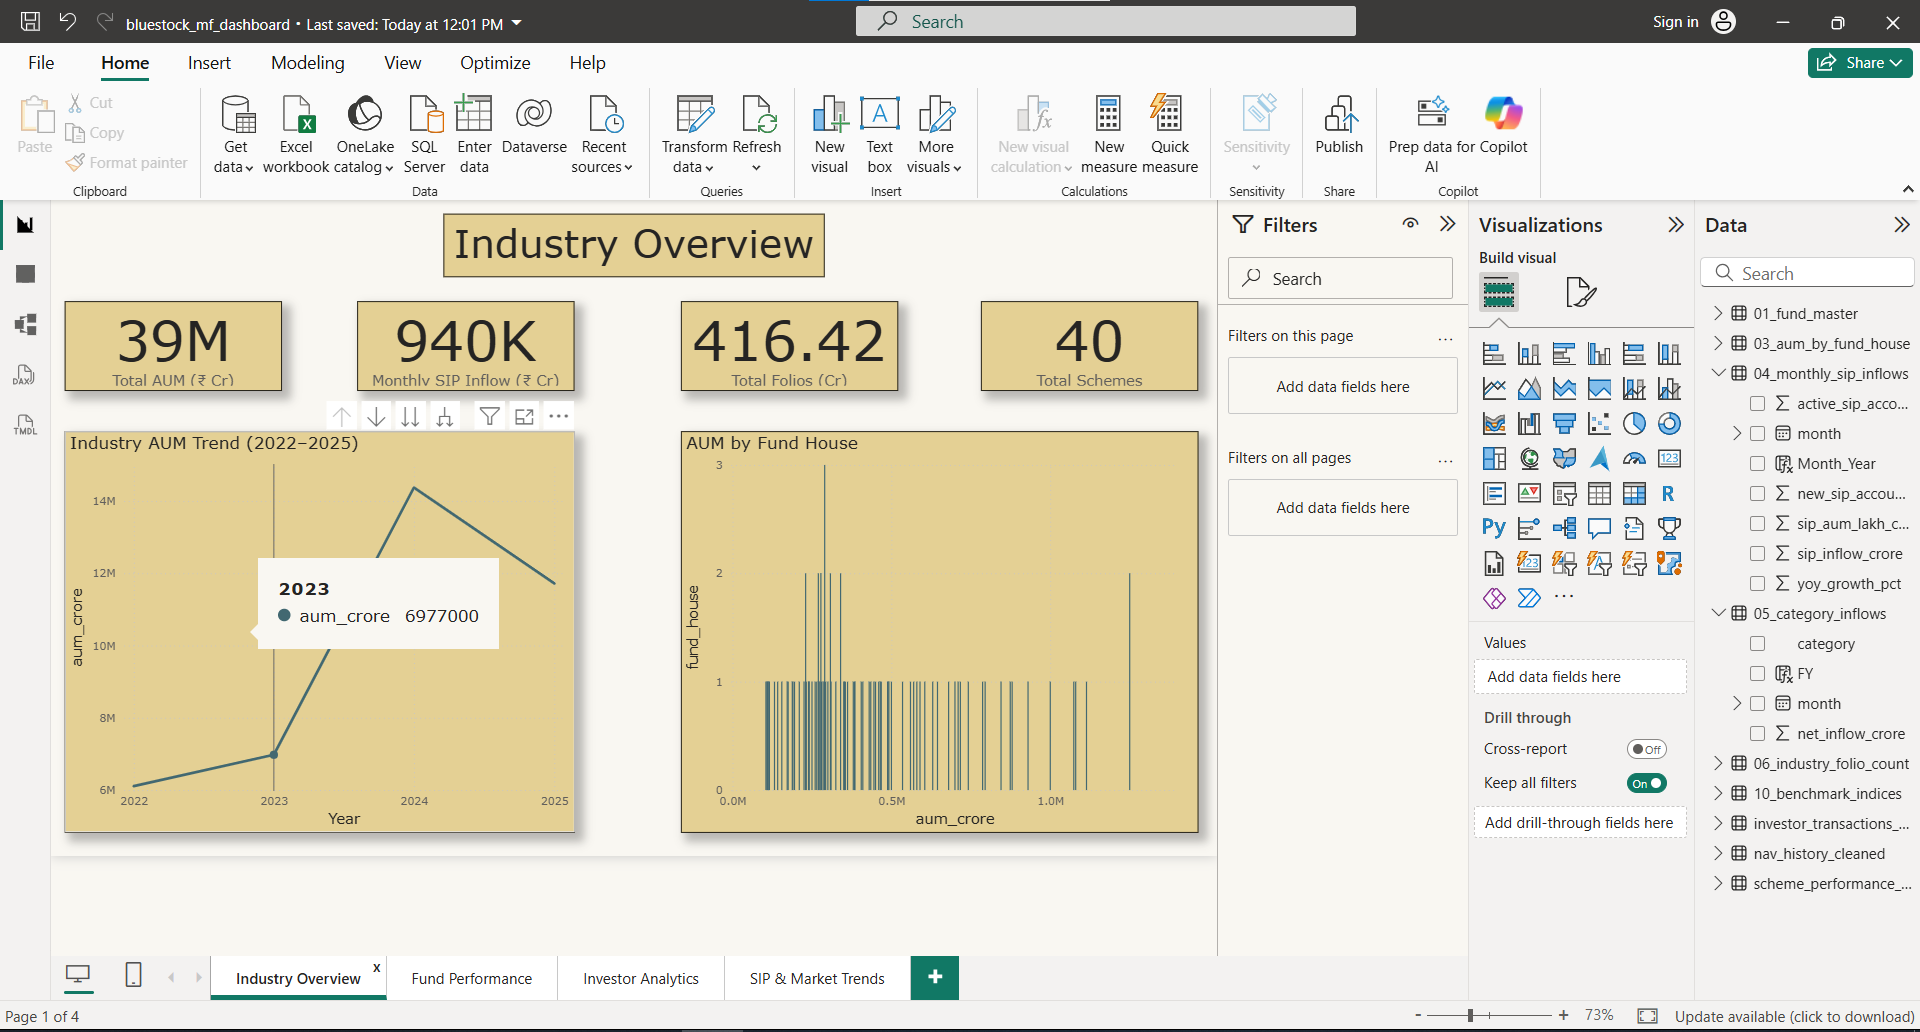

This screenshot's page, from the dashboard's own definition file:
{"tool":"powerbi","page":{"name":"Industry Overview","canvas":[1280,720],"ordinal":0},"visuals":[{"type":"card","fields":{"Values":["Sum(03_aum_by_fund_house.aum_crore)"]},"box":[15.1,111.1,238.8,98.8],"z":0},{"type":"textbox","box":[430.9,15.1,418.5,70],"z":1},{"type":"card","fields":{"Values":["Sum(04_monthly_sip_inflows.sip_inflow_crore)"]},"box":[336.2,111.1,238.8,98.8],"z":2},{"type":"card","fields":{"Values":["Sum(06_industry_folio_count.total_folios_crore)"]},"box":[691.6,111.1,238.8,98.8],"z":3},{"type":"card","fields":{"Values":["01_fund_master.Total Schemes"]},"box":[1020.9,111.1,238.8,98.8],"z":5},{"type":"lineChart","title":"Industry AUM Trend (2022–2025)","fields":{"Category":["03_aum_by_fund_house.date.Variation.Date Hierarchy.Year","03_aum_by_fund_house.date.Variation.Date Hierarchy.Quarter","03_aum_by_fund_house.date.Variation.Date Hierarchy.Month","03_aum_by_fund_house.date.Variation.Date Hierarchy.Day"],"Y":["Sum(03_aum_by_fund_house.aum_crore)"]},"box":[15.1,253.9,559.9,440.5],"z":6},{"type":"clusteredColumnChart","title":"AUM by Fund House","fields":{"Y":["CountNonNull(03_aum_by_fund_house.fund_house)"],"Category":["03_aum_by_fund_house.aum_crore"]},"box":[691.6,253.9,568.1,440.5],"z":7}]}

Visuals, with their boxes on the page's 1280x720 design canvas (x1, y1, x2, y2). These are canvas units, not pixel positions in the 1920x1032 screenshot, which may show the page scaled, cropped or inside an application window:
card - Sum(03_aum_by_fund_house.aum_crore): 15:111:254:210
textbox: 431:15:849:85
card - Sum(04_monthly_sip_inflows.sip_inflow_crore): 336:111:575:210
card - Sum(06_industry_folio_count.total_folios_crore): 692:111:930:210
card - 01_fund_master.Total Schemes: 1021:111:1260:210
"Industry AUM Trend (2022–2025)" lineChart: 15:254:575:694
"AUM by Fund House" clusteredColumnChart: 692:254:1260:694
